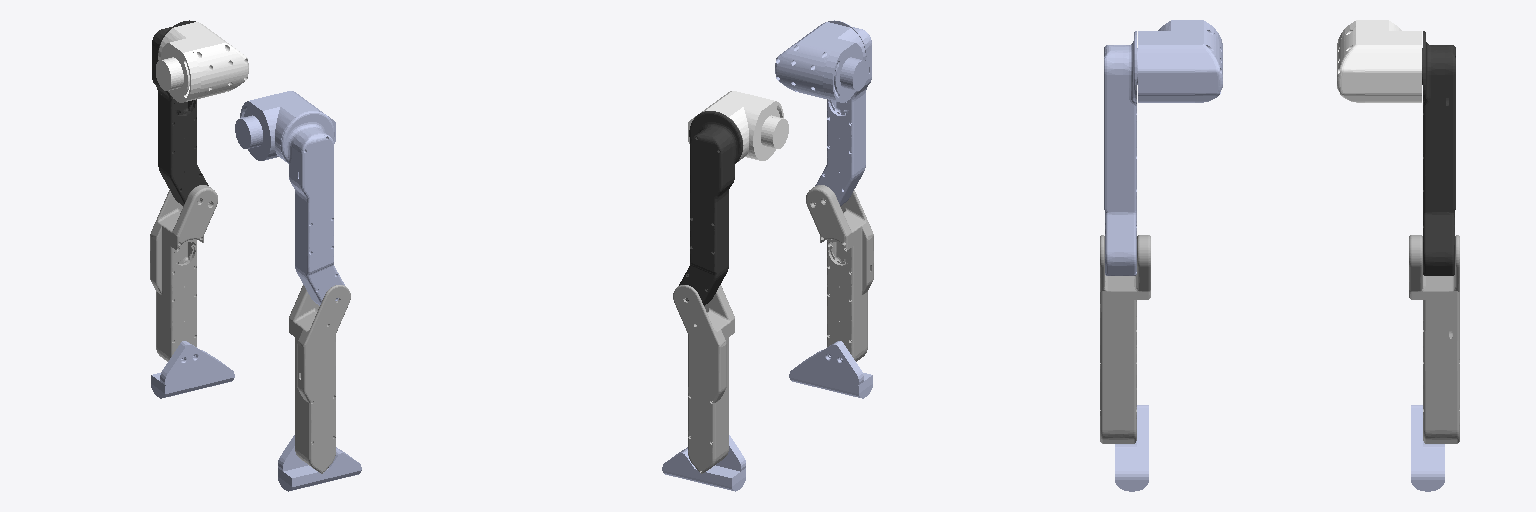
URDF robot description (dodo_daimao):
<?xml version="1.0" encoding="utf-8"?>
<!-- This URDF was automatically created by SolidWorks to URDF Exporter! Originally created by Stephen Brawner (brawner@gmail.com) 
     Commit Version: 1.6.0-4-g7f85cfe  Build Version: 1.6.7995.38578
     For more information, please see http://wiki.ros.org/sw_urdf_exporter -->
<robot
  name="dodo_daimao">
  <link
    name="body">
    <inertial>
      <origin
        xyz="0.0400134174279834 0.000424958598850349 0.084703437184713"
        rpy="0 0 0" />
      <mass
        value="3.3120339029656" />
      <inertia
        ixx="0.0036507107824554"
        ixy="1.13776918820647E-05"
        ixz="1.24774298068495E-06"
        iyy="0.00301790394894704"
        iyz="-7.64189428427699E-08"
        izz="0.00531086312471364" />
    </inertial>
    <visual>
      <origin
        xyz="0 0 0"
        rpy="0 0 0" />
      <geometry>
        <mesh
          filename="../meshes/body.STL" />
      </geometry>
      <material
        name="">
        <color
          rgba="0.752941176470588 0.752941176470588 0.752941176470588 1" />
      </material>
    </visual>
    <collision>
      <origin
        xyz="0 0 0"
        rpy="0 0 0" />
      <geometry>
        <mesh
          filename="../meshes/body.STL" />
      </geometry>
    </collision>
  </link>
  <link
    name="hip_right">
    <inertial>
      <origin
        xyz="-0.00935959180540419 -0.0120580540612954 -4.61678384464537E-05"
        rpy="0 0 0" />
      <mass
        value="0.428645410212592" />
      <inertia
        ixx="0.000176489626110945"
        ixy="4.21107338219603E-06"
        ixz="-1.16971532582114E-07"
        iyy="0.00018242553146269"
        iyz="4.30374159940254E-08"
        izz="0.000179181141560814" />
    </inertial>
    <visual>
      <origin
        xyz="0 0 0"
        rpy="0 0 0" />
      <geometry>
        <mesh
          filename="../meshes/hip_right.STL" />
      </geometry>
      <material
        name="">
        <color
          rgba="0.792156862745098 0.819607843137255 0.933333333333333 1" />
      </material>
    </visual>
    <collision>
      <origin
        xyz="0 0 0"
        rpy="0 0 0" />
      <geometry>
        <mesh
          filename="../meshes/hip_right.STL" />
      </geometry>
    </collision>
  </link>
  <joint
    name="hip_right"
    type="revolute">
    <origin
      xyz="-0.00075001 -0.093876 0"
      rpy="0 0 0" />
    <parent
      link="body" />
    <child
      link="hip_right" />
    <axis
      xyz="1 0 0" />
    <limit
      lower="-0.35"
      upper="0.35"
      effort="27"
      velocity="6" />
  </joint>
  <link
    name="upper_leg_right">
    <inertial>
      <origin
        xyz="0.00051642 8.2938E-05 -0.038008"
        rpy="0 0 0" />
      <mass
        value="0.13997" />
      <inertia
        ixx="0.00021774"
        ixy="-5.1776E-08"
        ixz="1.6121E-05"
        iyy="0.00023578"
        iyz="-3.3175E-07"
        izz="2.1634E-05" />
    </inertial>
    <visual>
      <origin
        xyz="0 0 0"
        rpy="0 0 0" />
      <geometry>
        <mesh
          filename="../meshes/upper_leg_right.STL" />
      </geometry>
      <material
        name="">
        <color
          rgba="0.79216 0.81961 0.93333 1" />
      </material>
    </visual>
    <collision>
      <origin
        xyz="0 0 0"
        rpy="0 0 0" />
      <geometry>
        <mesh
          filename="../meshes/upper_leg_right.STL" />
      </geometry>
    </collision>
  </link>
  <joint
    name="upper_leg_right"
    type="revolute">
    <origin
      xyz="0 -0.0515 0"
      rpy="0 0 0" />
    <parent
      link="hip_right" />
    <child
      link="upper_leg_right" />
    <axis
      xyz="0 1 0" />
    <limit
      lower="-1.57"
      upper="1.57"
      effort="27"
      velocity="6" />
  </joint>
  <link
    name="lower_leg_right">
    <inertial>
      <origin
        xyz="-0.01587610149621 -0.00929187493498879 -0.074124892377313"
        rpy="0 0 0" />
      <mass
        value="0.0729947991135356" />
      <inertia
        ixx="0.000132637231144206"
        ixy="9.3747479049776E-08"
        ixz="-4.3643145747824E-06"
        iyy="0.000142573634138813"
        iyz="1.01124749060663E-06"
        izz="1.25647330319124E-05" />
    </inertial>
    <visual>
      <origin
        xyz="0 0 0"
        rpy="0 0 0" />
      <geometry>
        <mesh
          filename="../meshes/lower_leg_right.STL" />
      </geometry>
      <material
        name="">
        <color
          rgba="0.752941176470588 0.752941176470588 0.752941176470588 1" />
      </material>
    </visual>
    <collision>
      <origin
        xyz="0 0 0"
        rpy="0 0 0" />
      <geometry>
        <mesh
          filename="../meshes/lower_leg_right.STL" />
      </geometry>
    </collision>
  </link>
  <joint
    name="lower_leg_right"
    type="revolute">
    <origin
      xyz="0.02 0 -0.199"
      rpy="0 0 0" />
    <parent
      link="upper_leg_right" />
    <child
      link="lower_leg_right" />
    <axis
      xyz="0 1 0" />
    <limit
      lower="-3.1416"
      upper="1.3963"
      effort="9"
      velocity="6" />
  </joint>
  <link
    name="foot_right">
    <inertial>
      <origin
        xyz="0.0094579 -0.0031616 -0.017361"
        rpy="0 0 0" />
      <mass
        value="0.035804" />
      <inertia
        ixx="7.6539E-06"
        ixy="1.2526E-06"
        ixz="1.2845E-06"
        iyy="2.1846E-05"
        iyz="-1.281E-06"
        izz="1.9541E-05" />
    </inertial>
    <visual>
      <origin
        xyz="0 0 0"
        rpy="0 0 0" />
      <geometry>
        <mesh
          filename="../meshes/foot_right.STL" />
      </geometry>
      <material
        name="">
        <color
          rgba="0.79216 0.81961 0.93333 1" />
      </material>
    </visual>
    <collision>
      <origin
        xyz="0 0 0"
        rpy="0 0 0" />
      <geometry>
        <mesh
          filename="../meshes/foot_right.STL" />
      </geometry>
    </collision>
  </link>
  <joint
    name="foot_right"
    type="revolute">
    <origin
      xyz="-0.02 0 -0.199"
      rpy="0 0 0" />
    <parent
      link="lower_leg_right" />
    <child
      link="foot_right" />
    <axis
      xyz="0 1 0" />
    <limit
      lower="-1.05"
      upper="1.57"
      effort="9"
      velocity="6" />
  </joint>
  <link
    name="foot_sole_right">
    <inertial>
      <origin
        xyz="-1.73472347597681E-17 0 0.00567169872058571"
        rpy="0 0 0" />
      <mass
        value="0.0250241854392981" />
      <inertia
        ixx="1.87120561716279E-06"
        ixy="-6.24808815328255E-22"
        ixz="2.90222075573319E-21"
        iyy="1.90049094994832E-05"
        iyz="-3.78307469549735E-22"
        izz="2.05068417159572E-05" />
    </inertial>
    <visual>
      <origin
        xyz="0 0 0"
        rpy="0 0 0" />
      <geometry>
        <mesh
          filename="../meshes/foot_sole_right.STL" />
      </geometry>
      <material
        name="">
        <color
          rgba="0.792156862745098 0.819607843137255 0.933333333333333 1" />
      </material>
    </visual>
    <collision>
      <origin
        xyz="0 0 0"
        rpy="0 0 0" />
      <geometry>
        <mesh
          filename="../meshes/foot_sole_right.STL" />
      </geometry>
    </collision>
  </link>
  <joint
    name="foot_sole_right"
    type="fixed">
    <origin
      xyz="0.01367 -0.0045502 -0.048801"
      rpy="0 0 0" />
    <parent
      link="foot_right" />
    <child
      link="foot_sole_right" />
    <axis
      xyz="0 0 0" />
  </joint>
<link
  name="hip_left">
  <inertial>
    <origin
      xyz="-0.00935959180540419 0.0120580540612954 -4.61678384464537E-05"
      rpy="0 0 0" />
    <mass
      value="0.428645410212592" />
    <inertia
      ixx="0.000176489626110945"
      ixy="-4.21107338219603E-06"
      ixz="-1.16971532582114E-07"
      iyy="0.00018242553146269"
      iyz="-4.30374159940254E-08"
      izz="0.000179181141560814" />
  </inertial>
    <visual>
      <origin
        xyz="0 0 0"
        rpy="0 0 0" />
      <geometry>
        <mesh
          filename="../meshes/hip_left.STL" />
      </geometry>
      <material
        name="">
        <color
          rgba="1 1 1 1" />
      </material>
    </visual>
    <collision>
      <origin
        xyz="0 0 0"
        rpy="0 0 0" />
      <geometry>
        <mesh
          filename="../meshes/hip_left.STL" />
      </geometry>
    </collision>
  </link>
  <joint
    name="hip_left"
    type="revolute">
    <origin
      xyz="-0.00075 0.093876 0"
      rpy="0 0 0" />
    <parent
      link="body" />
    <child
      link="hip_left" />
    <axis
      xyz="1 0 0" />
    <limit
      lower="-0.35"
      upper="0.35"
      effort="27"
      velocity="6" />
  </joint>
  <link
    name="upper_leg_left">
    <inertial>
      <origin
        xyz="0.000470359983009524 -0.000104870920080047 -0.0379958460267216"
        rpy="0 0 0" />
      <mass
        value="0.139831556786489" />
      <inertia
        ixx="0.000217276164901289"
        ixy="4.47992885118014E-08"
        ixz="1.65357655457004E-05"
        iyy="0.00023534518749094"
        iyz="3.29205860644562E-07"
        izz="2.16682097797681E-05" />
    </inertial>
    <visual>
      <origin
        xyz="0 0 0"
        rpy="0 0 0" />
      <geometry>
        <mesh
          filename="../meshes/upper_leg_left.STL" />
      </geometry>
      <material
        name="">
        <color
          rgba="0.298039215686275 0.298039215686275 0.298039215686275 1" />
      </material>
    </visual>
    <collision>
      <origin
        xyz="0 0 0"
        rpy="0 0 0" />
      <geometry>
        <mesh
          filename="../meshes/upper_leg_left.STL" />
      </geometry>
    </collision>
  </link>
  <joint
    name="upper_leg_left"
    type="revolute">
    <origin
      xyz="0 0.0515 0"
      rpy="0 0 0" />
    <parent
      link="hip_left" />
    <child
      link="upper_leg_left" />
    <axis
      xyz="0 1 0" />
    <limit
      lower="-1.57"
      upper="1.57"
      effort="27"
      velocity="6" />
  </joint>
  <link
    name="lower_leg_left">
    <inertial>
      <origin
        xyz="-0.0159332626475034 0.00934367799883778 -0.0741182203680711"
        rpy="0 0 0" />
      <mass
        value="0.0729640311072434" />
      <inertia
        ixx="0.000132603326187729"
        ixy="-9.8027554728474E-08"
        ixz="-4.28769146205699E-06"
        iyy="0.000142575081640039"
        iyz="-1.01217163604183E-06"
        izz="1.26000800700448E-05" />
    </inertial>
    <visual>
      <origin
        xyz="0 0 0"
        rpy="0 0 0" />
      <geometry>
        <mesh
          filename="../meshes/lower_leg_left.STL" />
      </geometry>
      <material
        name="">
        <color
          rgba="0.752941176470588 0.752941176470588 0.752941176470588 1" />
      </material>
    </visual>
    <collision>
      <origin
        xyz="0 0 0"
        rpy="0 0 0" />
      <geometry>
        <mesh
          filename="../meshes/lower_leg_left.STL" />
      </geometry>
    </collision>
  </link>
  <joint
    name="lower_leg_left"
    type="revolute">
    <origin
      xyz="0.02 0 -0.199"
      rpy="0 0 0" />
    <parent
      link="upper_leg_left" />
    <child
      link="lower_leg_left" />
    <axis
      xyz="0 1 0" />
    <limit
      lower="-3.1416"
      upper="1.3963"
      effort="9"
      velocity="6" />
  </joint>
  <link
    name="foot_left">
    <inertial>
      <origin
        xyz="0.0094578881133146 0.00323178176396433 -0.0173612508209276"
        rpy="0 0 0" />
      <mass
        value="0.0358036768207827" />
      <inertia
        ixx="7.65386250473635E-06"
        ixy="-1.25259932554362E-06"
        ixz="1.28450131584467E-06"
        iyy="2.18460376730125E-05"
        iyz="1.28101667369989E-06"
        izz="1.95413933051716E-05" />
    </inertial>
    <visual>
      <origin
        xyz="0 0 0"
        rpy="0 0 0" />
      <geometry>
        <mesh
          filename="../meshes/foot_left.STL" />
      </geometry>
      <material
        name="">
        <color
          rgba="0.792156862745098 0.819607843137255 0.933333333333333 1" />
      </material>
    </visual>
    <collision>
      <origin
        xyz="0 0 0"
        rpy="0 0 0" />
      <geometry>
        <mesh
          filename="../meshes/foot_left.STL" />
      </geometry>
    </collision>
  </link>
  <joint
    name="foot_left"
    type="revolute">
    <origin
      xyz="-0.02 0 -0.199"
      rpy="0 0 0" />
    <parent
      link="lower_leg_left" />
    <child
      link="foot_left" />
    <axis
      xyz="0 1 0" />
    <limit
      lower="-1.05"
      upper="1.57"
      effort="9"
      velocity="6" />
  </joint>
  <link
    name="foot_sole_left">
    <inertial>
      <origin
        xyz="-1.04083408558608E-17 2.77555756156289E-17 0.00567169872058565"
        rpy="0 0 0" />
      <mass
        value="0.0250241854392981" />
      <inertia
        ixx="1.87123587595229E-06"
        ixy="2.27693702921507E-08"
        ixz="1.54018273619599E-22"
        iyy="1.90048792406936E-05"
        iyz="-2.17461054031225E-22"
        izz="2.05068417159572E-05" />
    </inertial>
    <visual>
      <origin
        xyz="0 0 0"
        rpy="0 0 0" />
      <geometry>
        <mesh
          filename="../meshes/foot_sole_left.STL" />
      </geometry>
      <material
        name="">
        <color
          rgba="0.792156862745098 0.819607843137255 0.933333333333333 1" />
      </material>
    </visual>
    <collision>
      <origin
        xyz="0 0 0"
        rpy="0 0 0" />
      <geometry>
        <mesh
          filename="../meshes/foot_sole_left.STL" />
      </geometry>
    </collision>
  </link>
  <joint
    name="foot_sole_left"
    type="fixed">
    <origin
      xyz="0.0136701751849855 0.00459982071533604 -0.0488007300265155"
      rpy="0 0 -3.14026372919282" />
    <parent
      link="foot_left" />
    <child
      link="foot_sole_left" />
    <axis
      xyz="0 0 0" />
  </joint>
</robot>

--- Facts derived from the render (not from the file) ---
3 views of the same robot in one strip: view 1: azimuth 30°, elevation 25°; view 2: azimuth 150°, elevation 25°; view 3: azimuth 270°, elevation 25° (orthographic).
Robot: dodo_daimao — 11 links, 10 joints (8 revolute, 2 fixed); root link body; default pose: all joints at 0.
Visible links, largest first — view 1: upper_leg_right, lower_leg_right, lower_leg_left, hip_left, upper_leg_left, hip_right, foot_left, foot_right; view 2: upper_leg_left, lower_leg_left, lower_leg_right, hip_right, upper_leg_right, hip_left, foot_right, foot_left; view 3: upper_leg_right, upper_leg_left, lower_leg_right, lower_leg_left, hip_left, hip_right, foot_right, foot_left.
Link boxes in pixels (x1,y1,x2,y2): upper_leg_right: (281,111,344,305); lower_leg_right: (289,285,350,473); lower_leg_left: (150,185,217,361); hip_left: (156,22,248,102); upper_leg_left: (152,20,208,205); hip_right: (235,91,335,161); foot_left: (151,341,234,393); foot_right: (278,435,361,486); upper_leg_left: (679,111,742,305); lower_leg_left: (673,285,734,473); lower_leg_right: (806,185,873,361); hip_right: (775,22,867,102); upper_leg_right: (815,20,871,205); hip_left: (688,91,788,161); foot_right: (789,341,872,393); foot_left: (662,435,745,486); upper_leg_right: (1104,31,1137,275); upper_leg_left: (1422,31,1455,275); lower_leg_right: (1100,235,1150,443); lower_leg_left: (1409,235,1459,443); hip_left: (1337,20,1421,102); hip_right: (1138,20,1222,102); foot_right: (1115,405,1148,482); foot_left: (1411,405,1444,482).
Size in the robot's own frame: 0.1197 by 0.3648 by 0.4833 metres.
Meshes: 11 distinct files referenced, 10 mesh visuals loaded (10 binary STL); not drawn: 1 (reference not matched to a file when rendering).
